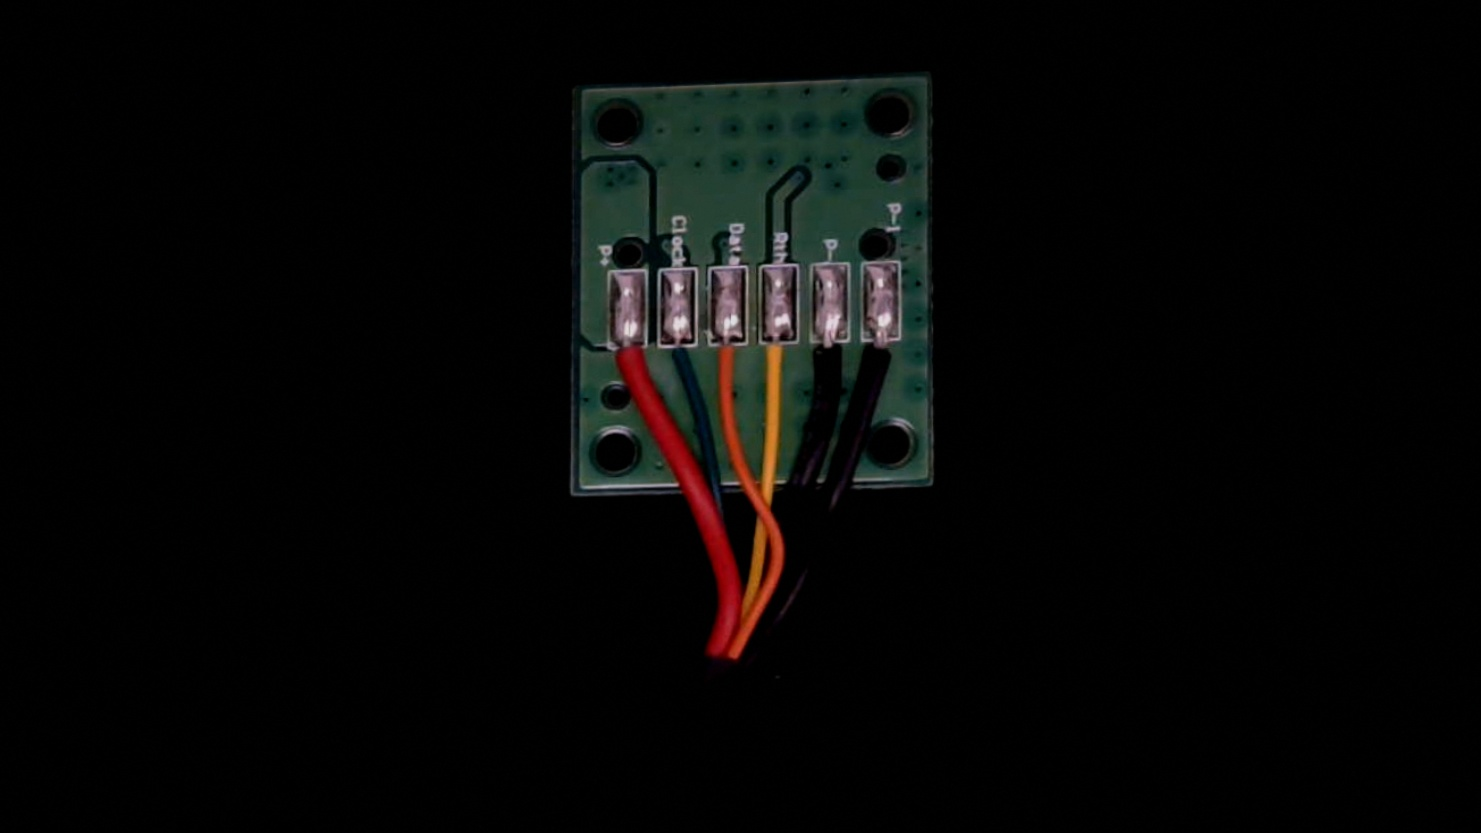Black: (810, 317, 848, 408)
Black1: (860, 320, 904, 407)
Green: (658, 328, 696, 404)
Orange: (708, 318, 751, 410)
Red: (610, 329, 651, 402)
Yellow: (757, 320, 799, 406)
